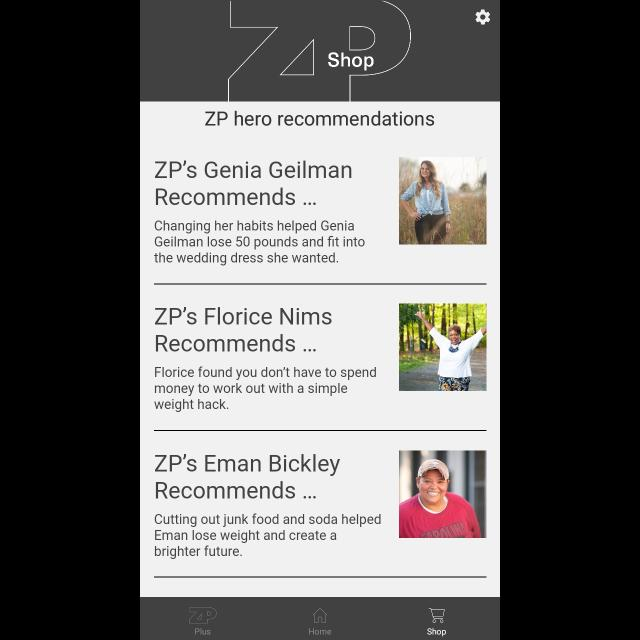icon: (312, 608, 328, 624), (476, 10, 490, 26), (428, 608, 444, 622)
image: (229, 0, 411, 101), (399, 450, 486, 538), (399, 304, 486, 391), (399, 158, 486, 245), (190, 608, 217, 624)
text: (155, 512, 381, 560), (155, 367, 377, 413), (154, 220, 366, 266), (156, 160, 352, 206), (156, 454, 340, 498), (156, 308, 332, 352), (206, 112, 434, 126), (328, 52, 374, 72), (310, 628, 332, 636), (426, 628, 446, 636), (196, 628, 210, 636)
